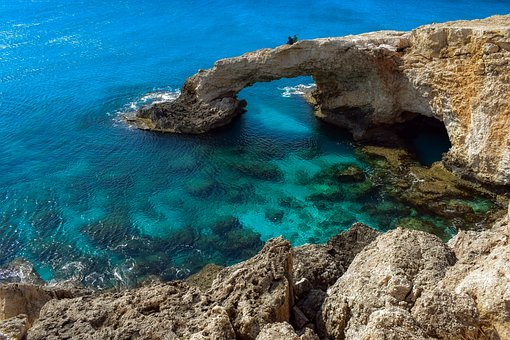sea: (5, 2, 465, 273)
stone: (164, 19, 510, 169), (43, 232, 498, 340)
